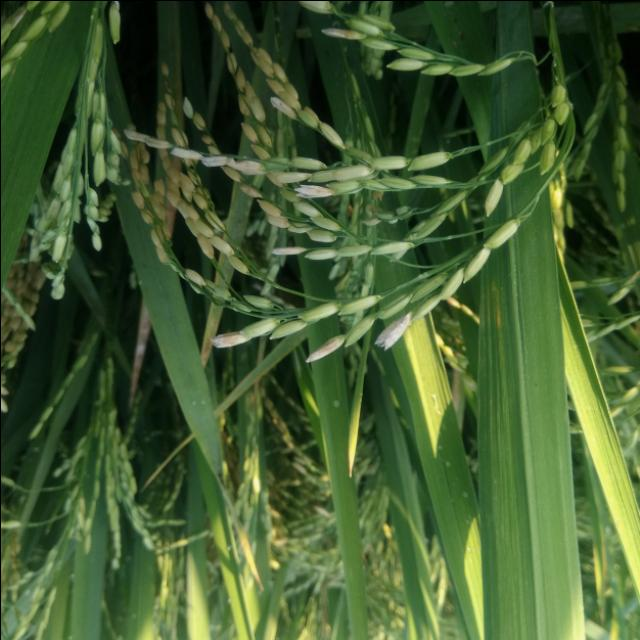Hawar Daun Bakteri: (121, 320, 153, 412), (196, 317, 220, 364)
Penggulung Daun: (187, 428, 265, 592)
